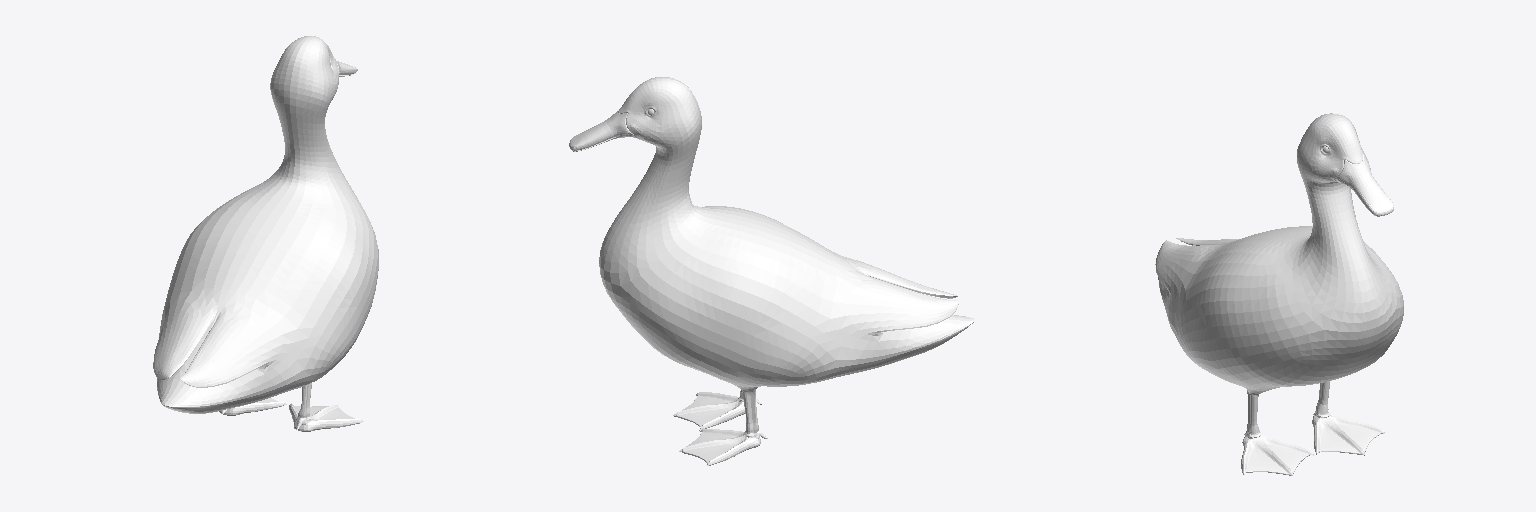
Rendered from pato.obj.
The picture shows the model from 3 angles: view 1: azimuth 30°, elevation 25°; view 2: azimuth 150°, elevation 25°; view 3: azimuth 270°, elevation 25°; orthographic projection.
Visible parts, largest first — view 1: 12248_Bird_v1_L2; view 2: 12248_Bird_v1_L2; view 3: 12248_Bird_v1_L2.
Part boxes in pixels (x1,y1,x2,y2): 12248_Bird_v1_L2: (153,36,378,431); 12248_Bird_v1_L2: (569,77,973,465); 12248_Bird_v1_L2: (1155,113,1403,475).
Bounding box in the file's own units: 9.71 × 11.07 × 7.03.